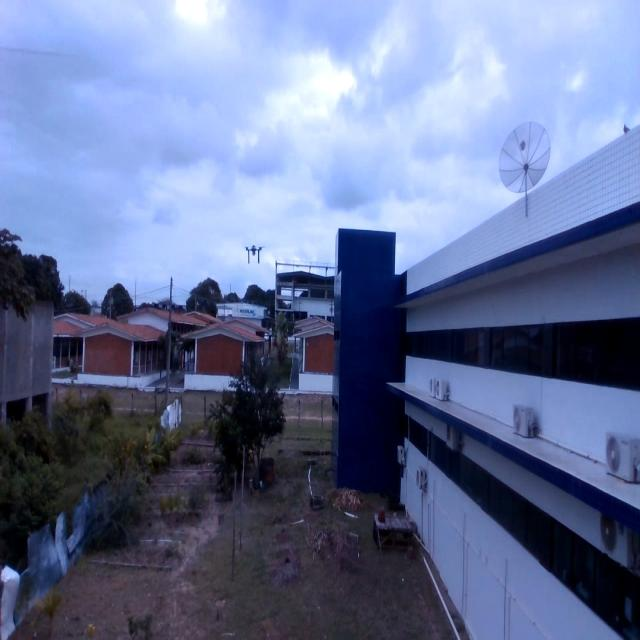-uav-: (239, 239, 267, 271)
